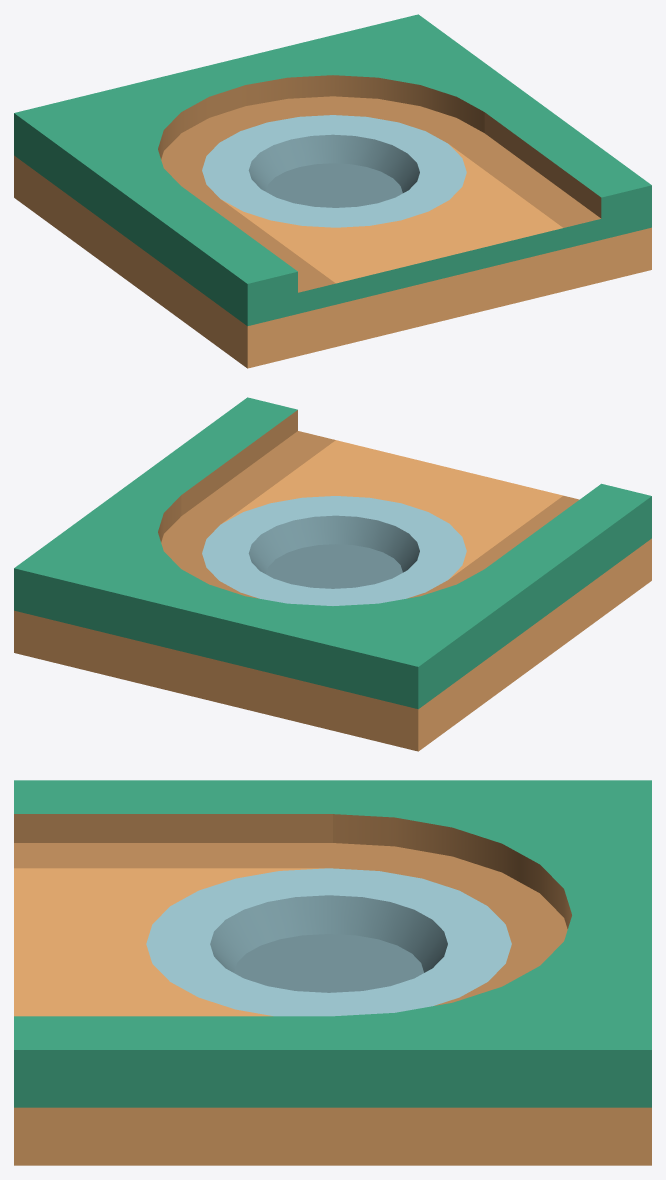
File: tile_endRoundSpawn.dae
The picture shows the model from 3 angles, top to bottom: view 1: azimuth 30°, elevation 25°; view 2: azimuth 150°, elevation 25°; view 3: azimuth 270°, elevation 25°; orthographic projection. The views are drawn at different scales.
Parts seen in each view (by area): view 1: tile_endRoundSpawn; view 2: tile_endRoundSpawn; view 3: tile_endRoundSpawn.
Part boxes in pixels (box(x1,y1,x2,y2)): tile_endRoundSpawn: box(14, 14, 651, 368); tile_endRoundSpawn: box(14, 397, 651, 751); tile_endRoundSpawn: box(14, 780, 651, 1165).
Size of the model in its own units: 1 by 0.2 by 1.
